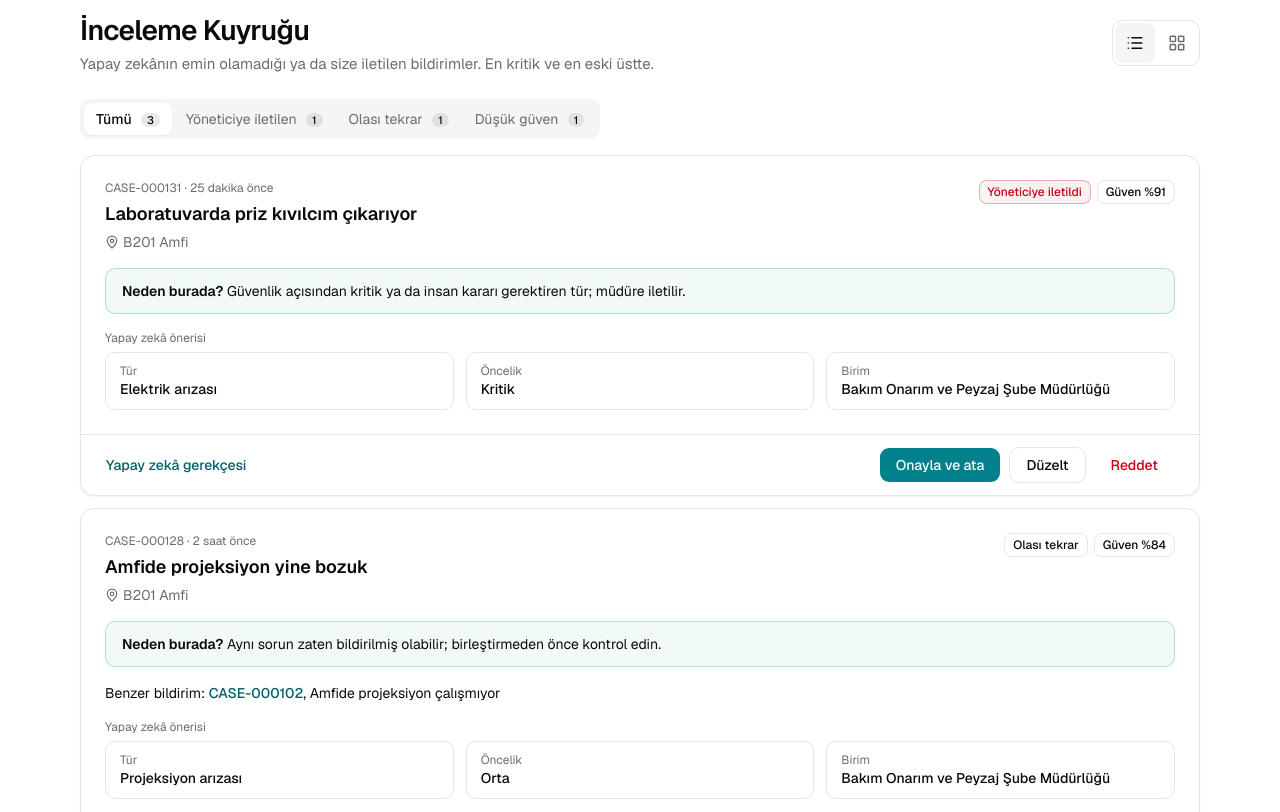
Test: ReviewQueue › shows the queue as square cards that keep the actions and link to the case details
What coordinates should you click on to do the following:
click the button named "Kart görünümü"
I would click on:
 (1177, 43)
Its box is [1157,23,1197,63].
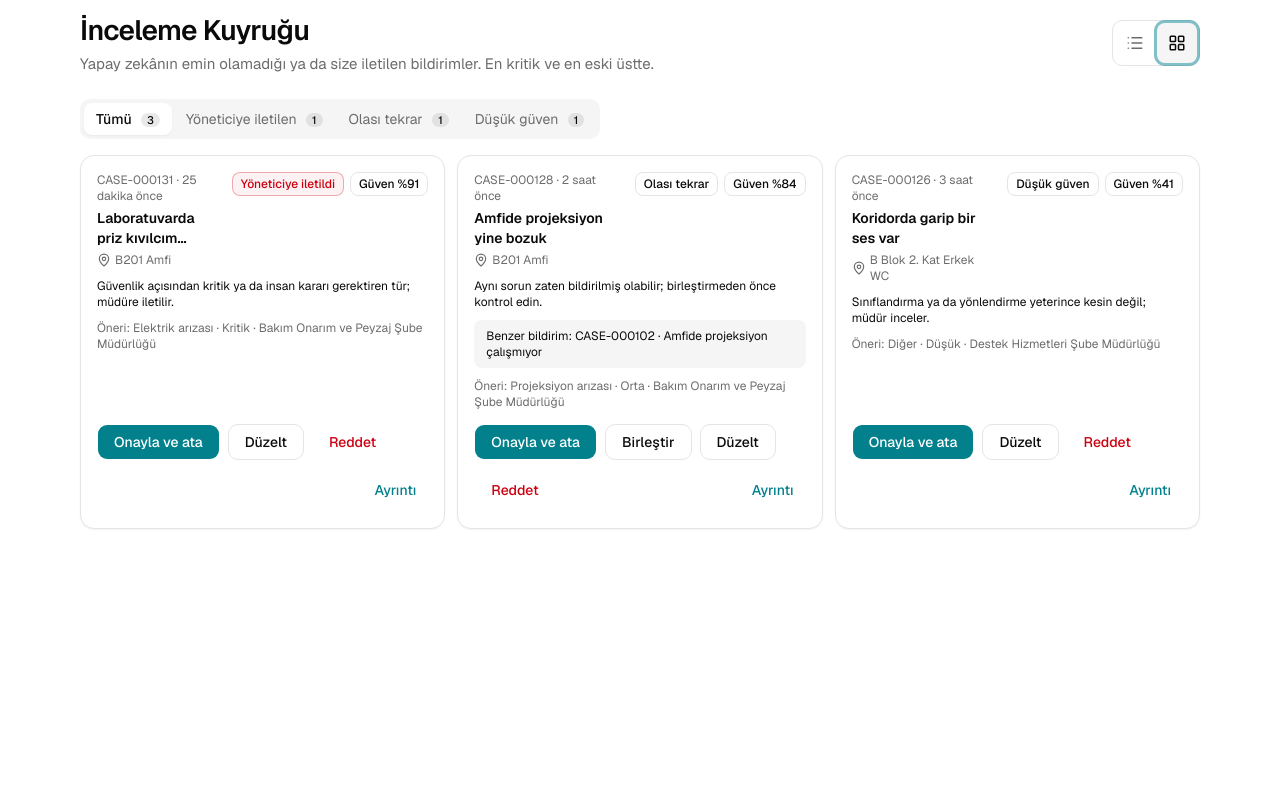
Expected: the text "Yöneticiye iletildi" is shown, [232,172,344,196]
Now the text "Öneri: Elektrik arızası · Kritik · " is shown, box [97,320,422,352]
Now the button "Yapay zekâ gerekçesi" is gone
